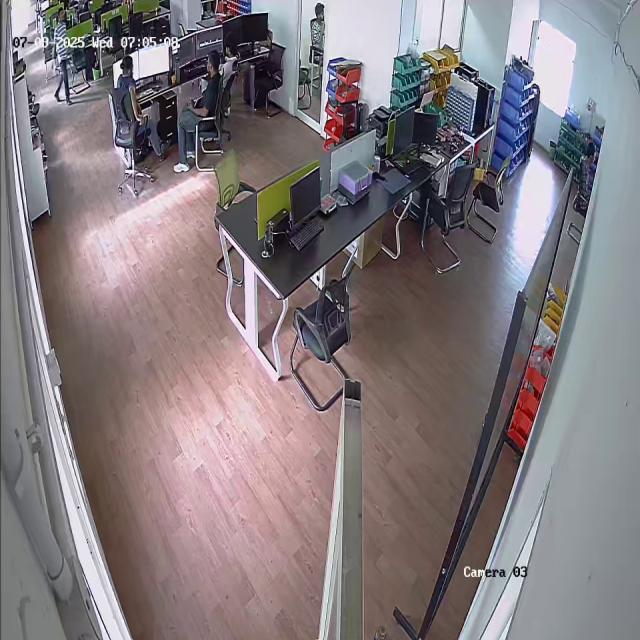person: (176, 49, 221, 173), (114, 55, 148, 162), (51, 6, 74, 107), (308, 2, 326, 53)
